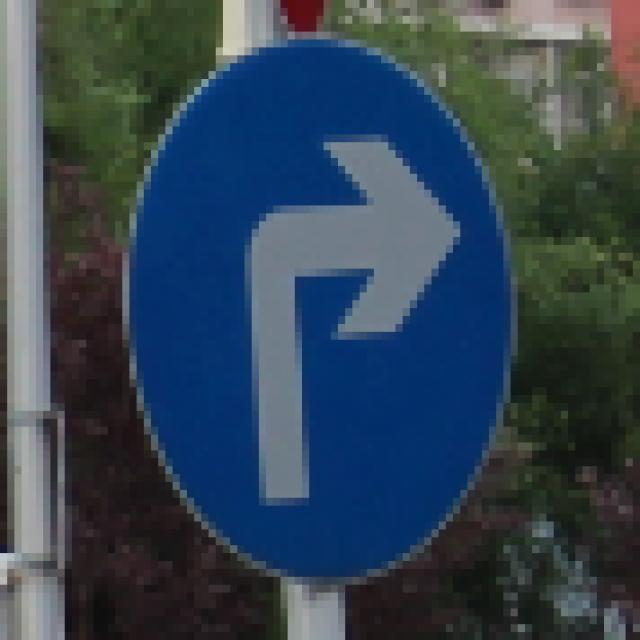Right: (120, 34, 516, 588)
